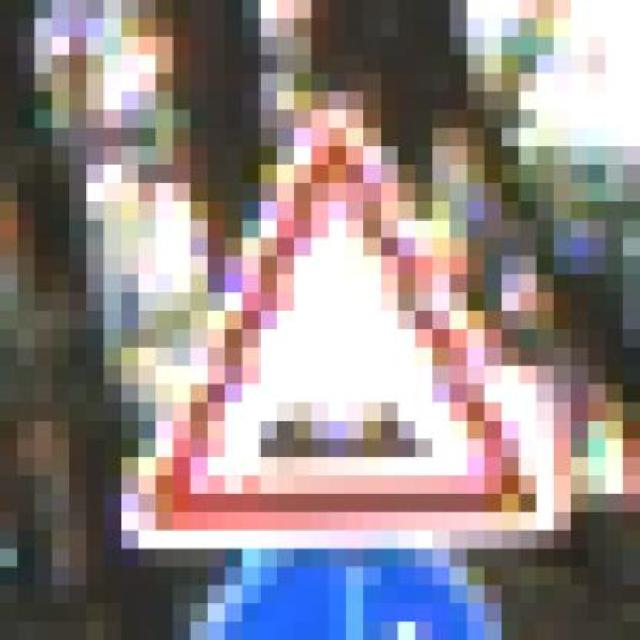Uneven Road: (120, 73, 572, 567)
